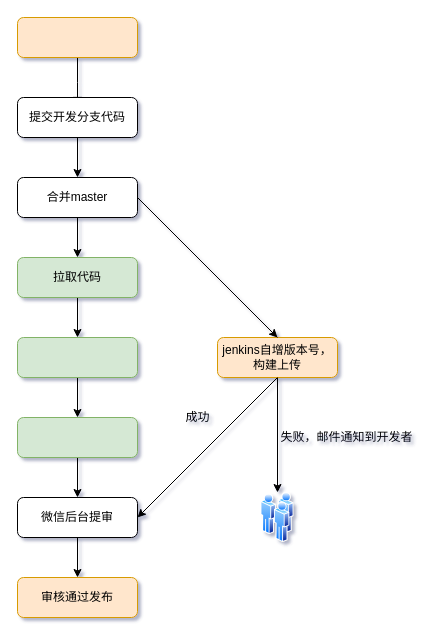
Some shapes in this 445 by 641 pixel diagram are drawn without their labels. Each missing label, with the box of its shape:
开发任务: (16, 16, 138, 58)
微信开发工具，设置版本号，上传: (16, 416, 138, 458)
打开微信开发工具，编译代码: (16, 336, 138, 378)
